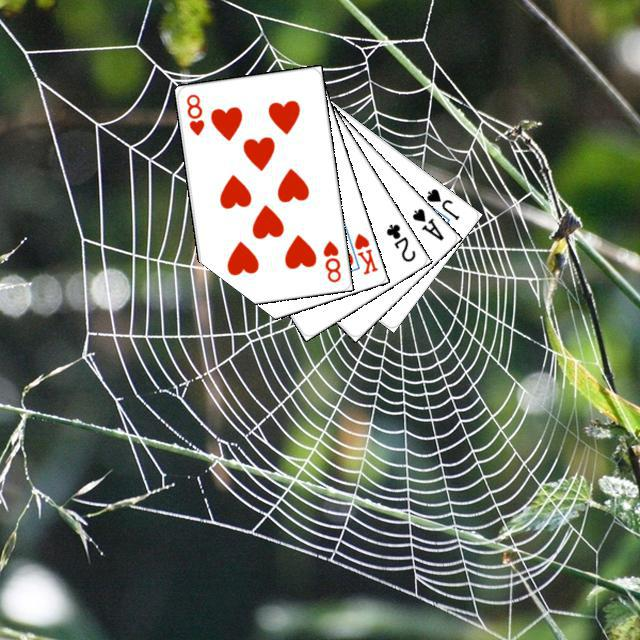2c: (381, 219, 417, 264)
8h: (318, 236, 343, 284), (181, 89, 206, 137)
As: (407, 203, 446, 243)
Js: (421, 184, 461, 222)
Kh: (342, 227, 379, 276)
